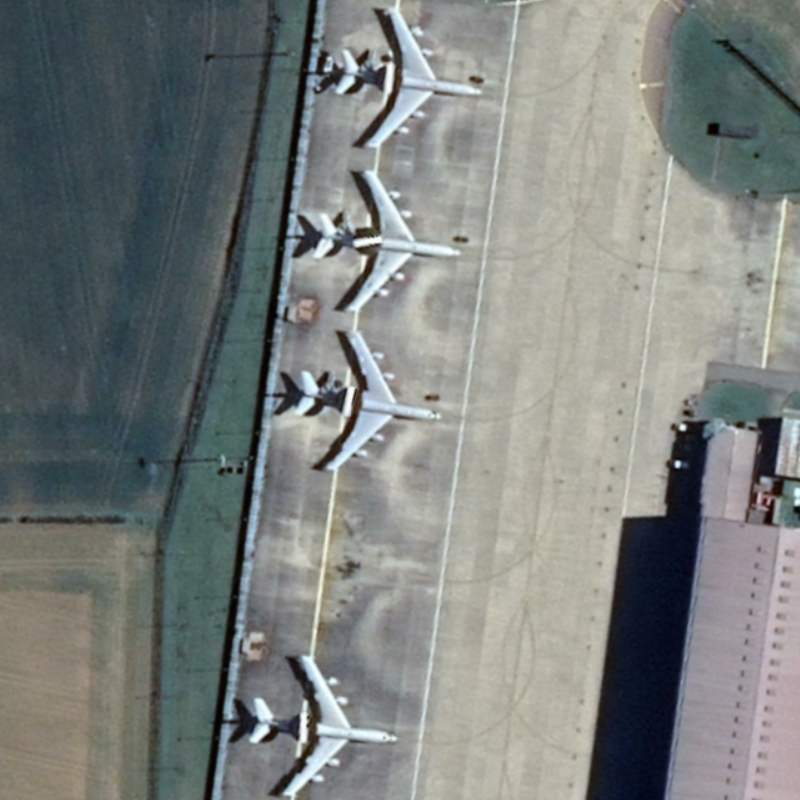A7: (295, 1, 500, 158), (254, 319, 454, 478), (285, 166, 472, 311), (239, 641, 405, 800)
